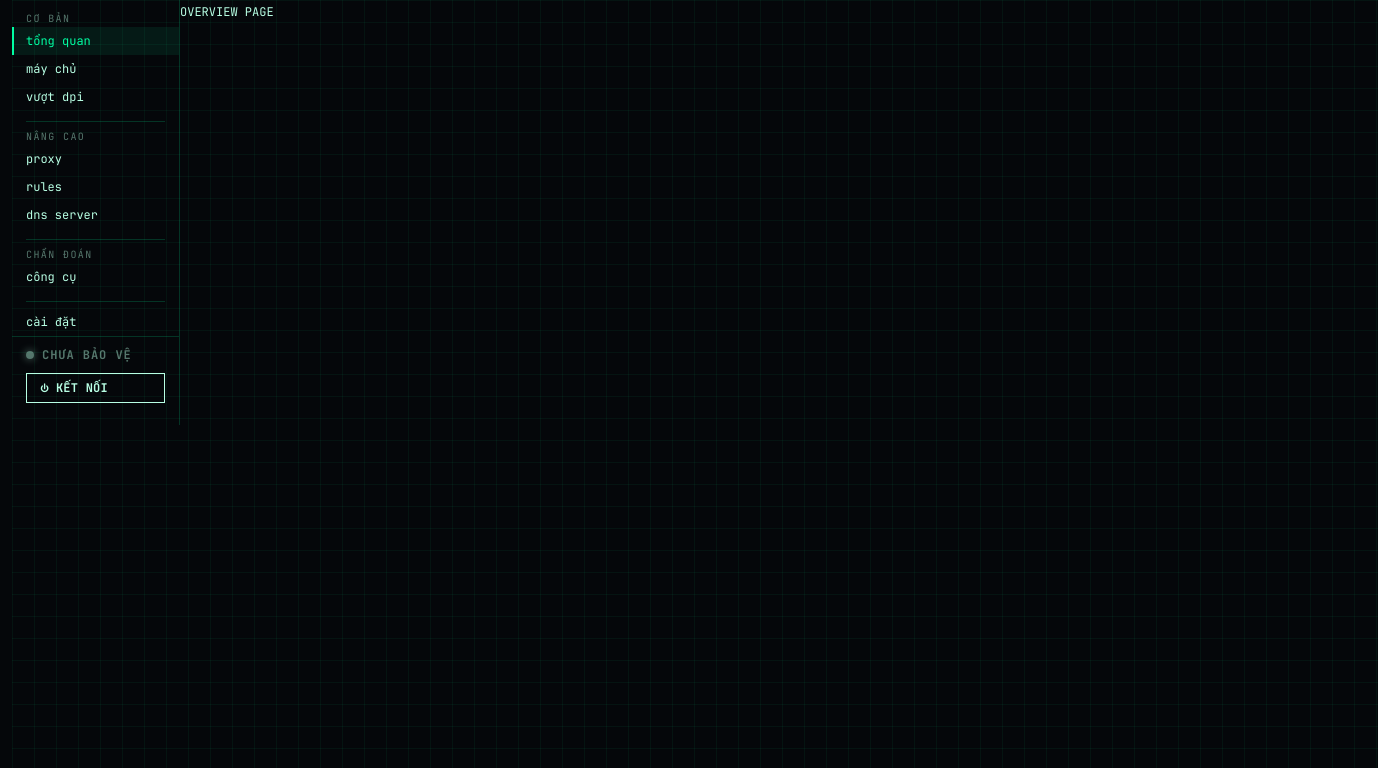
Test: tools opens on the logs tab, which comes first
Click the button "công cụ".
click(96, 277)  # box [12,263,179,291]
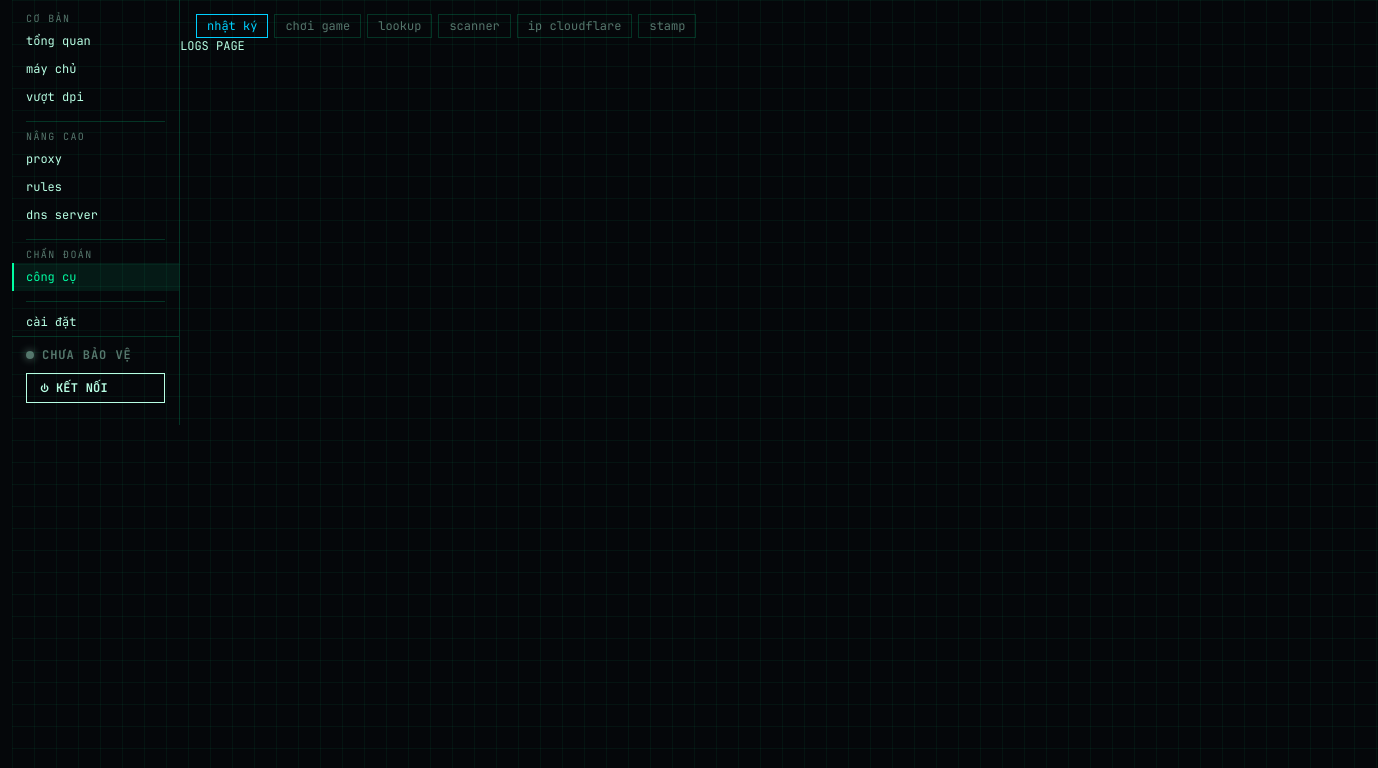
Now the tabs read "nhật ký", "chơi game", "lookup", "scanner", "ip cloudflare", "stamp", in this order
Now the text "LOGS PAGE" is shown, box [180,38,245,54]
Click the tab "lookup".
click(400, 26)  # box [367,14,432,38]
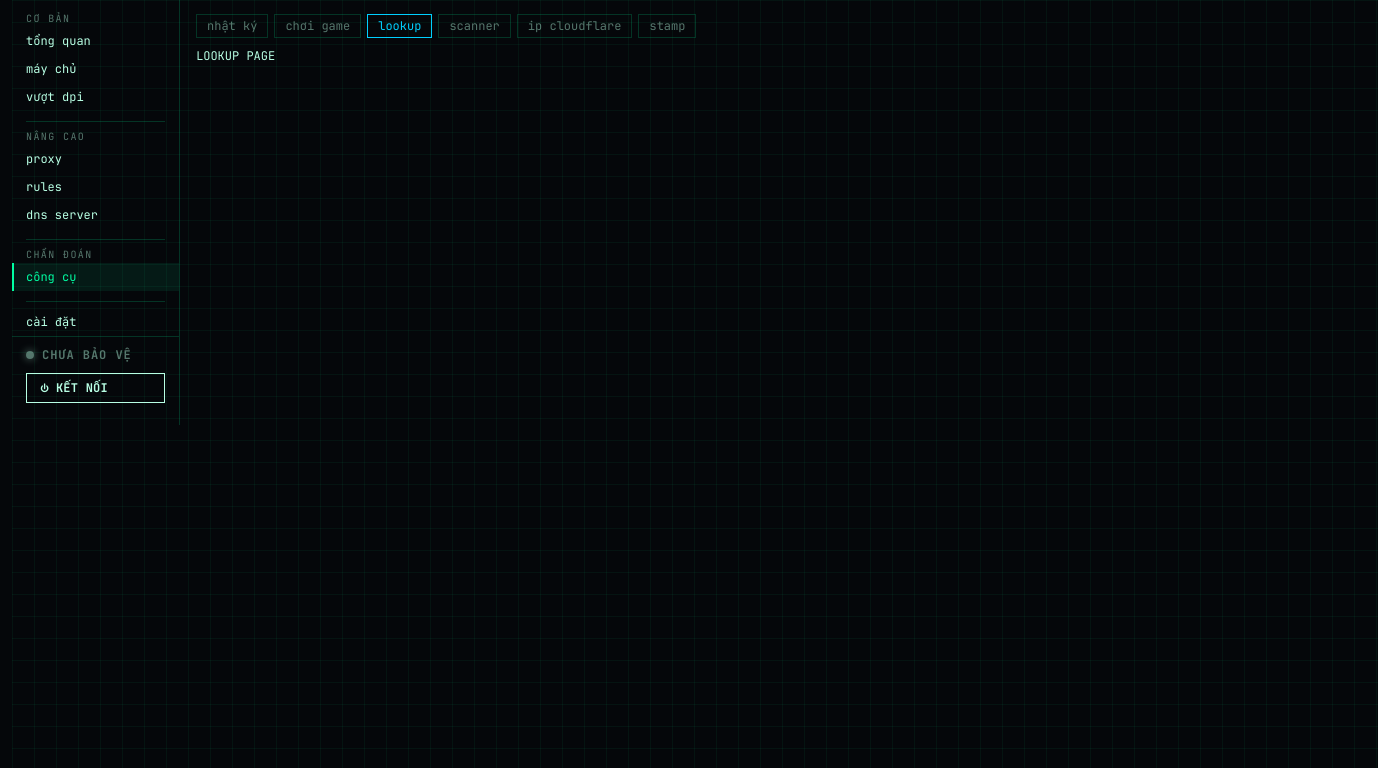
Now the text "LOOKUP PAGE" is shown, box [196,48,275,64]
